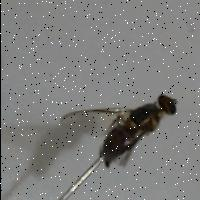Oriental-fruit-fly: (48, 64, 182, 178)
